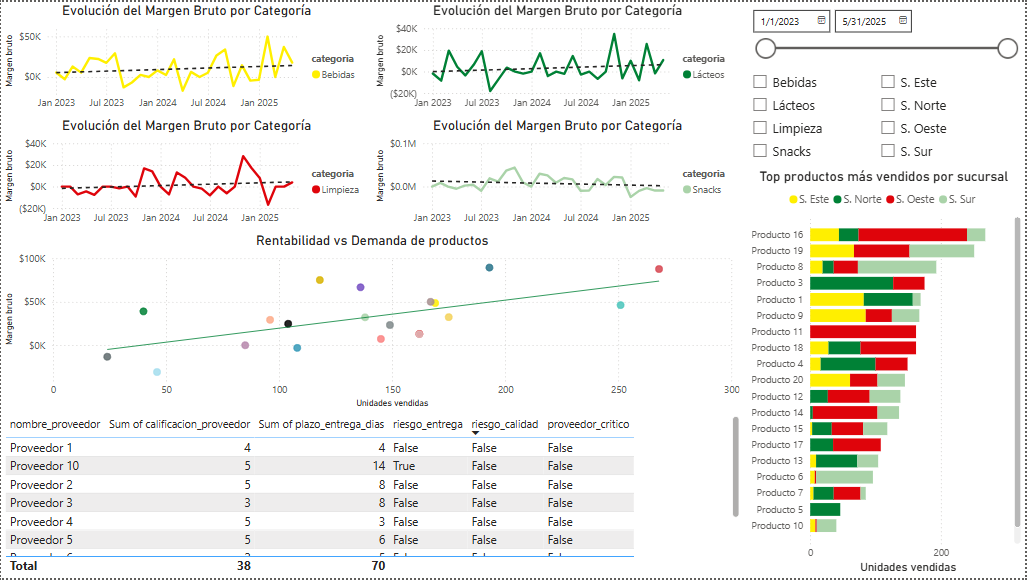

Layout of this report page (visuals, bound fields, positions):
{"tool":"powerbi","page":{"name":"main","canvas":[1280,720],"ordinal":0},"visuals":[{"type":"lineChart","title":"Evolución del Margen Bruto por Categoría","fields":{"Y":["Sum(tabla_consolidada.margen_bruto)"],"Series":["tabla_consolidada.categoria"],"Category":["tabla_consolidada.fecha.Variation.Date Hierarchy.Year","tabla_consolidada.fecha.Variation.Date Hierarchy.Month"]},"box":[0,0,464,144],"z":0},{"type":"slicer","fields":{"Values":["tabla_consolidada.fecha"]},"box":[928,0,352,80],"z":1000},{"type":"slicer","fields":{"Values":["tabla_consolidada.categoria"]},"box":[928,80,160,128],"z":2000},{"type":"slicer","fields":{"Values":["tabla_consolidada.sucursal"]},"box":[1088,80,192,128],"z":3000},{"type":"scatterChart","title":"Rentabilidad vs Demanda de productos","fields":{"X":["Sum(tabla_consolidada.unidades_vendidas)"],"Y":["Sum(tabla_consolidada.margen_bruto)"],"Series":["tabla_consolidada.nombre_producto"]},"box":[0,288,928,224],"z":4000},{"type":"barChart","title":"Top productos más vendidos por sucursal","fields":{"Category":["tabla_consolidada.nombre_producto"],"Y":["Sum(tabla_consolidada.unidades_vendidas)"],"Series":["tabla_consolidada.sucursal"]},"box":[928,208,352,512],"z":5000},{"type":"tableEx","fields":{"Values":["proveedores_riesgo.nombre_proveedor","Sum(proveedores_riesgo.calificacion_proveedor)","Sum(proveedores_riesgo.plazo_entrega_dias)","proveedores_riesgo.riesgo_entrega","proveedores_riesgo.riesgo_calidad","proveedores_riesgo.proveedor_critico"]},"box":[0,512,928,208],"z":6000},{"type":"lineChart","title":"Evolución del Margen Bruto por Categoría","fields":{"Y":["Sum(tabla_consolidada.margen_bruto)"],"Series":["tabla_consolidada.categoria"],"Category":["tabla_consolidada.fecha.Variation.Date Hierarchy.Year","tabla_consolidada.fecha.Variation.Date Hierarchy.Month"]},"box":[0,144,464,144],"z":7000},{"type":"lineChart","title":"Evolución del Margen Bruto por Categoría","fields":{"Y":["Sum(tabla_consolidada.margen_bruto)"],"Series":["tabla_consolidada.categoria"],"Category":["tabla_consolidada.fecha.Variation.Date Hierarchy.Year","tabla_consolidada.fecha.Variation.Date Hierarchy.Month"]},"box":[464,144,464,144],"z":8000},{"type":"lineChart","title":"Evolución del Margen Bruto por Categoría","fields":{"Y":["Sum(tabla_consolidada.margen_bruto)"],"Series":["tabla_consolidada.categoria"],"Category":["tabla_consolidada.fecha.Variation.Date Hierarchy.Year","tabla_consolidada.fecha.Variation.Date Hierarchy.Month"]},"box":[464,0,464,144],"z":9000}]}

Visuals, with their boxes in screenshot pixels (x1, y1, x2, y2), scaled from the page's 1280x720 canvas onto the 1028x581 screenshot:
"Evolución del Margen Bruto por Categoría" lineChart: x1=0 y1=0 x2=373 y2=116
slicer - tabla_consolidada.fecha: x1=745 y1=0 x2=1027 y2=65
slicer - tabla_consolidada.categoria: x1=745 y1=65 x2=874 y2=168
slicer - tabla_consolidada.sucursal: x1=874 y1=65 x2=1027 y2=168
"Rentabilidad vs Demanda de productos" scatterChart: x1=0 y1=232 x2=745 y2=413
"Top productos más vendidos por sucursal" barChart: x1=745 y1=168 x2=1027 y2=580
tableEx - proveedores_riesgo.nombre_proveedor x Sum(proveedores_riesgo.calificacion_proveedor): x1=0 y1=413 x2=745 y2=580
"Evolución del Margen Bruto por Categoría" lineChart: x1=0 y1=116 x2=373 y2=232
"Evolución del Margen Bruto por Categoría" lineChart: x1=373 y1=116 x2=745 y2=232
"Evolución del Margen Bruto por Categoría" lineChart: x1=373 y1=0 x2=745 y2=116
